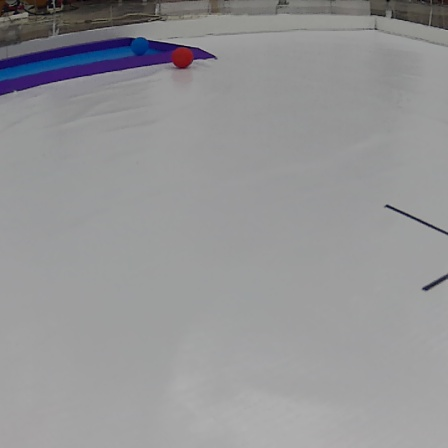blue: (131, 34, 153, 58)
blue_aim: (0, 37, 221, 90)
red: (172, 44, 196, 69)
